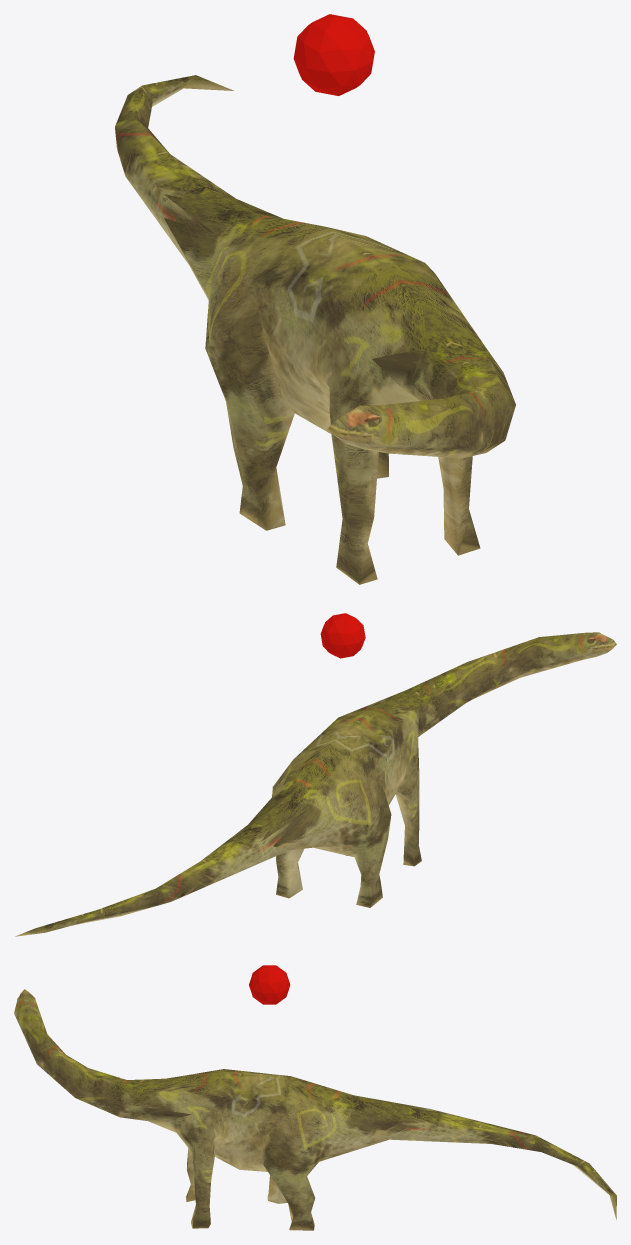
File: dino1.glb
3 renders of one model, top to bottom at view 1: azimuth 30°, elevation 25°; view 2: azimuth 150°, elevation 25°; view 3: azimuth 270°, elevation 25°, orthographic. The views are drawn at different scales.
Parts seen in each view (by area): view 1: bodyAR_002, Icosphere; view 2: bodyAR_002, Icosphere; view 3: bodyAR_002, Icosphere.
Boxes of the visible parts, left/top/right/bottom form: bodyAR_002: left=115, top=75, right=515, bottom=584; Icosphere: left=293, top=14, right=374, bottom=95; bodyAR_002: left=15, top=632, right=616, bottom=936; Icosphere: left=320, top=613, right=365, bottom=658; bodyAR_002: left=14, top=989, right=616, bottom=1230; Icosphere: left=249, top=965, right=290, bottom=1004.
Bounding box in the file's own units: 4.01 × 3.83 × 8.45.
2 materials, 1 textured.
